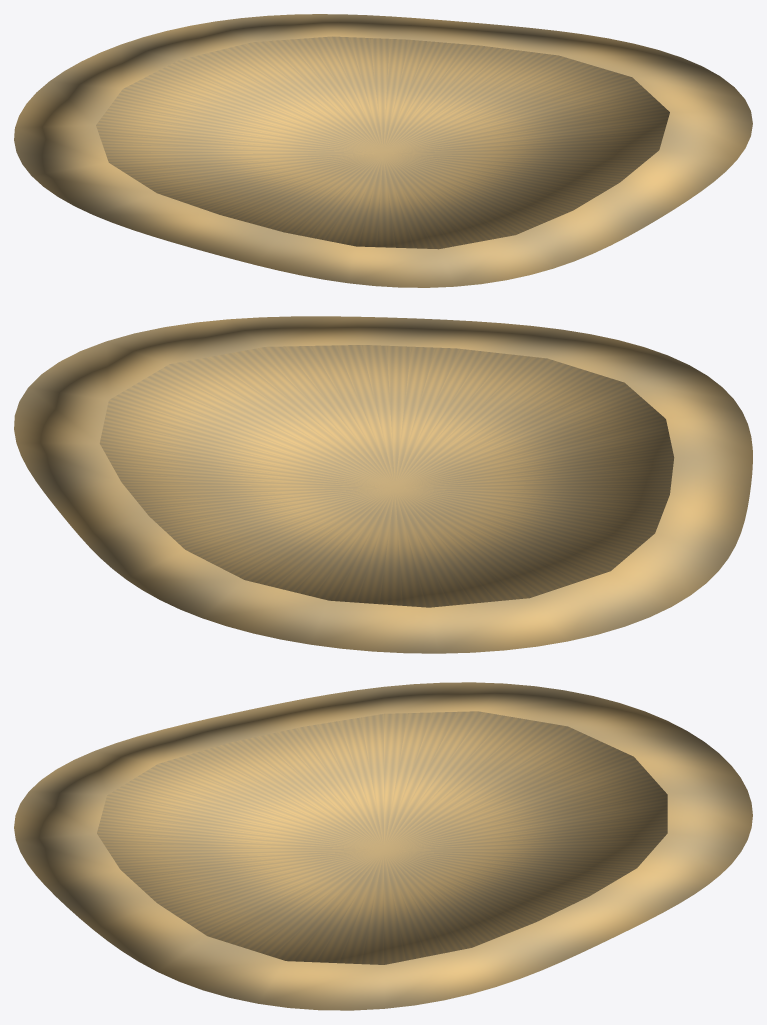
File: ISL-M_LOD2_Beach.fbx
3 views of the same model, one above another, from view 1: azimuth 30°, elevation 25°; view 2: azimuth 150°, elevation 25°; view 3: azimuth 270°, elevation 25° (orthographic). The views are drawn at different scales.
Visible parts, largest first — view 1: ISL-M_LOD2_Beach; view 2: ISL-M_LOD2_Beach; view 3: ISL-M_LOD2_Beach.
Part boxes in pixels (bbox=[...]): ISL-M_LOD2_Beach: bbox=[14, 14, 752, 287]; ISL-M_LOD2_Beach: bbox=[14, 316, 752, 653]; ISL-M_LOD2_Beach: bbox=[14, 682, 752, 1010].
Size of the model in its own units: 105 by 99.49 by 2.5.
